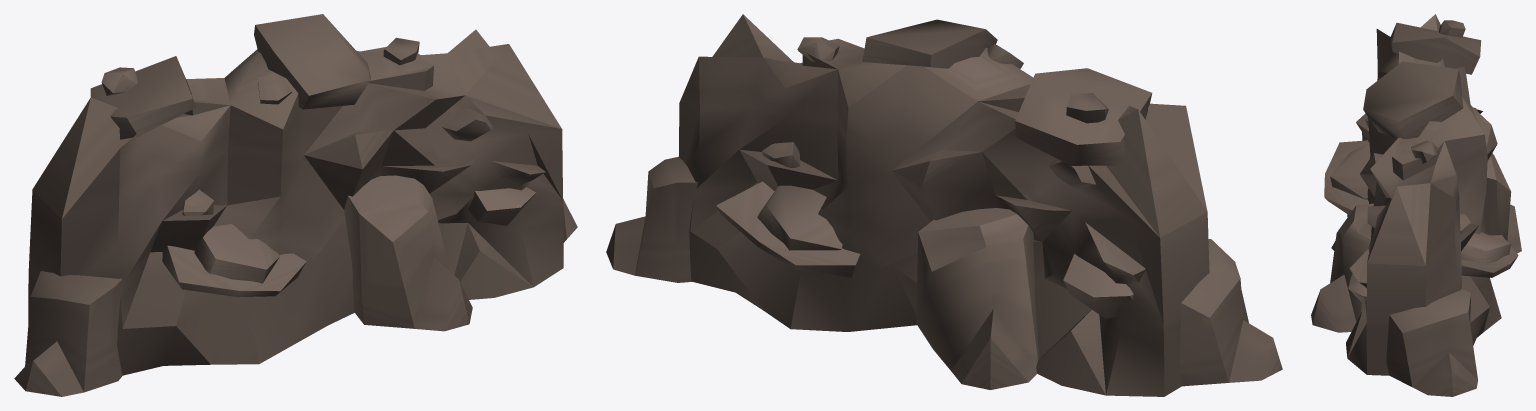
The model's file is rubble_large.glb.
3 views of the same model, side by side, from view 1: azimuth 30°, elevation 25°; view 2: azimuth 150°, elevation 25°; view 3: azimuth 270°, elevation 25° (orthographic). The views are drawn at different scales.
Visible parts, largest first — view 1: rubble_large; view 2: rubble_large; view 3: rubble_large.
Part boxes in pixels (left/top/right/bottom): rubble_large: left=14, top=14, right=577, bottom=396; rubble_large: left=606, top=14, right=1282, bottom=396; rubble_large: left=1311, top=14, right=1521, bottom=396.
Size of the model in its own units: 8.13 by 3.5 by 3.18.
1 material, 1 textured.
